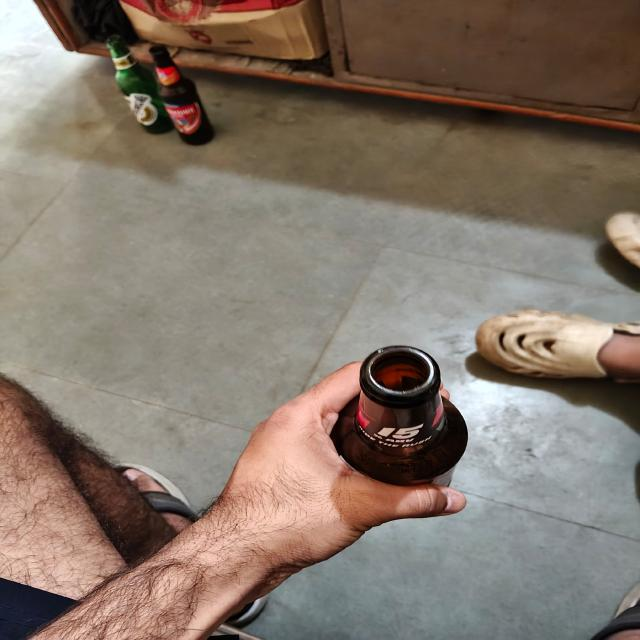Alcohol-Bottle-Detection: (320, 339, 475, 488)
